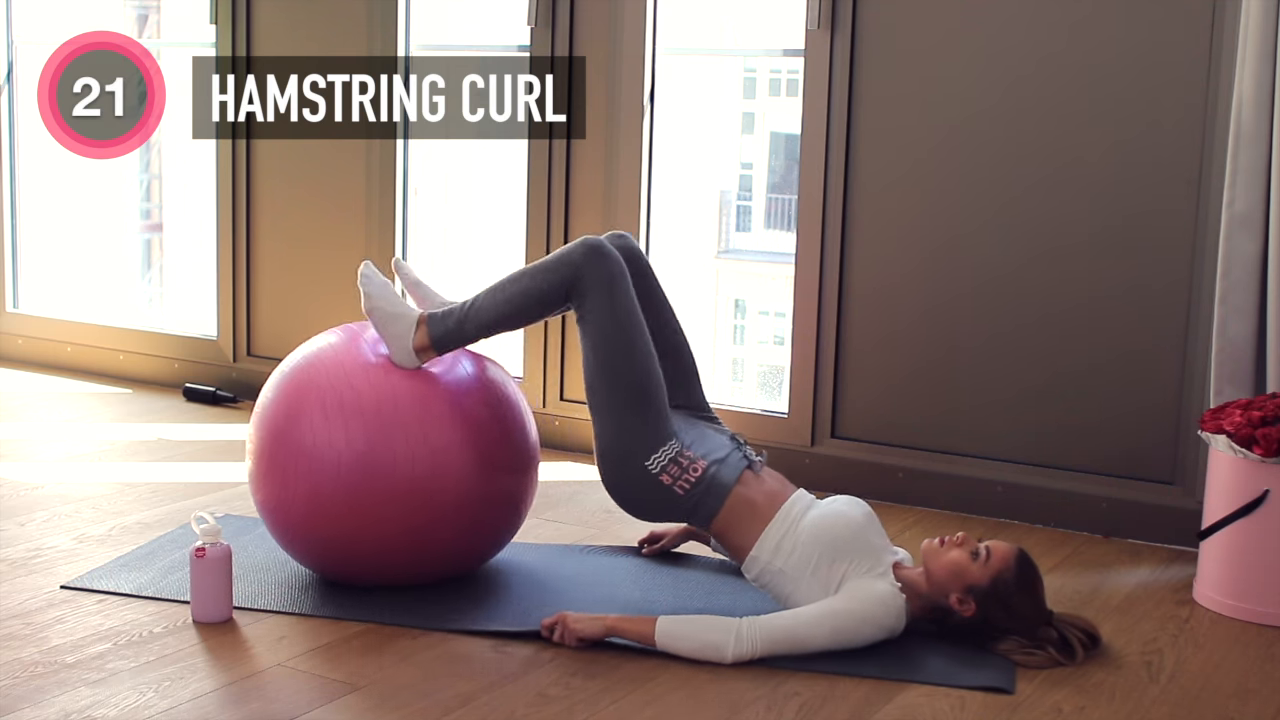yogaball: (237, 316, 551, 597)
